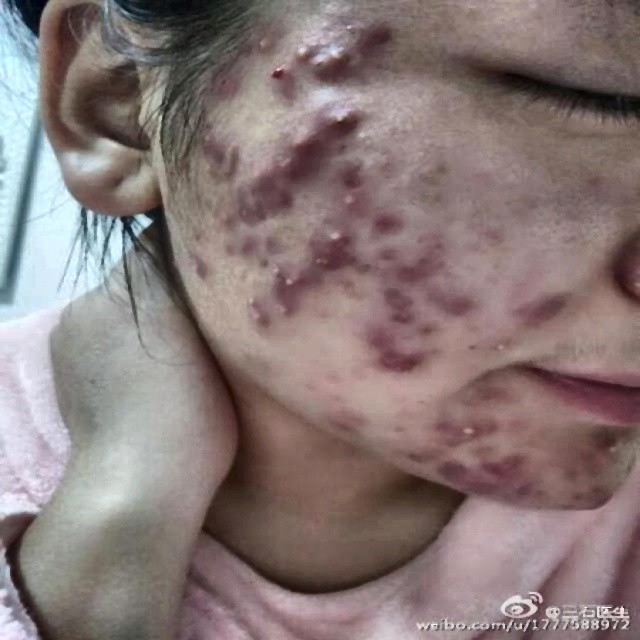nodule: (276, 34, 334, 73), (493, 462, 549, 502), (386, 300, 442, 339), (239, 295, 286, 338), (516, 285, 569, 322), (212, 144, 257, 185), (317, 404, 374, 434), (430, 283, 475, 320), (363, 212, 408, 248), (442, 416, 491, 448), (374, 273, 424, 304), (276, 257, 323, 289), (394, 439, 439, 472), (273, 148, 320, 179), (326, 102, 374, 132), (372, 342, 420, 372), (310, 225, 356, 255), (436, 456, 474, 492), (313, 182, 365, 208), (227, 232, 276, 259), (219, 200, 263, 230), (264, 63, 304, 96), (471, 383, 523, 408), (322, 274, 372, 300), (168, 253, 218, 278), (402, 247, 451, 272), (411, 339, 454, 366), (337, 152, 370, 185), (257, 184, 293, 214), (346, 20, 394, 42), (262, 287, 304, 312), (362, 146, 397, 173), (476, 222, 512, 248), (320, 47, 363, 68), (496, 441, 532, 466), (482, 335, 524, 356), (297, 251, 337, 273), (282, 131, 332, 148), (208, 71, 246, 93), (347, 255, 385, 277), (245, 31, 277, 56), (303, 14, 341, 35), (242, 166, 276, 189), (586, 430, 620, 453), (357, 323, 397, 342), (404, 228, 434, 251), (383, 418, 418, 436), (556, 460, 582, 484), (583, 484, 612, 504), (294, 376, 324, 394), (326, 388, 354, 406), (320, 368, 343, 389), (188, 136, 208, 158), (562, 488, 584, 506), (381, 179, 405, 195), (276, 236, 303, 250), (244, 272, 268, 287), (228, 264, 252, 278), (357, 66, 363, 71)
